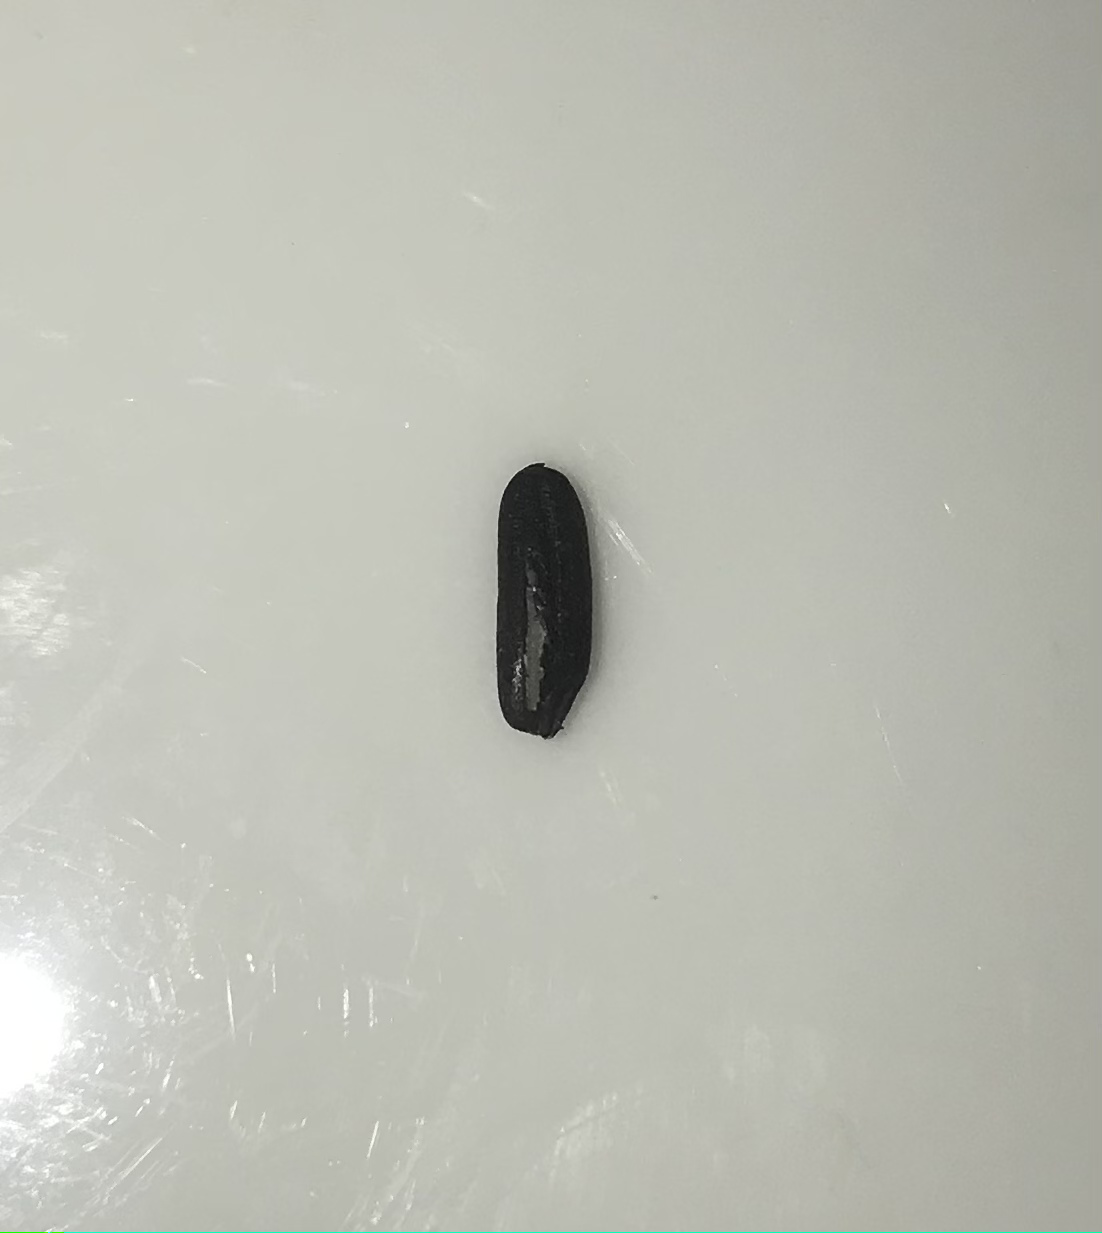Gao lut: (492, 456, 602, 748)
